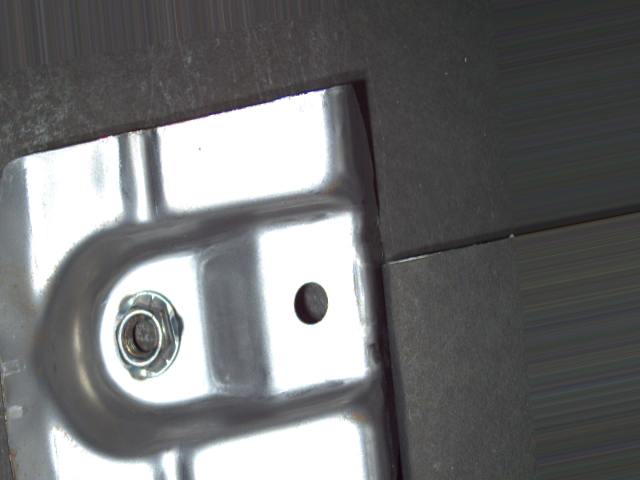good: (110, 288, 188, 383)
